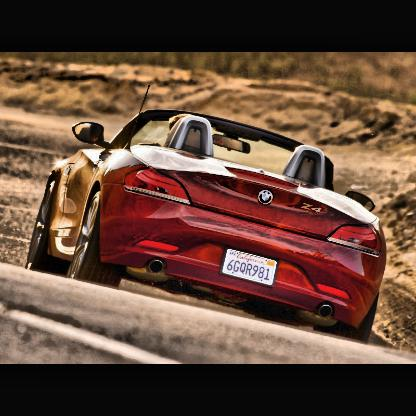BMW Z4 Convertible 2012: (26, 81, 387, 343)
